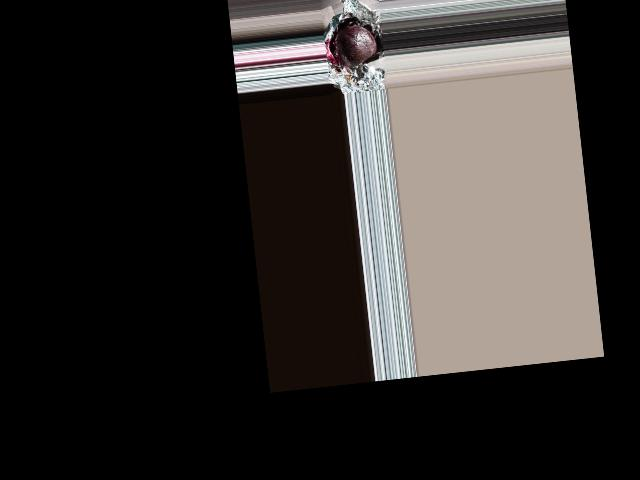beet: (335, 22, 378, 69)
